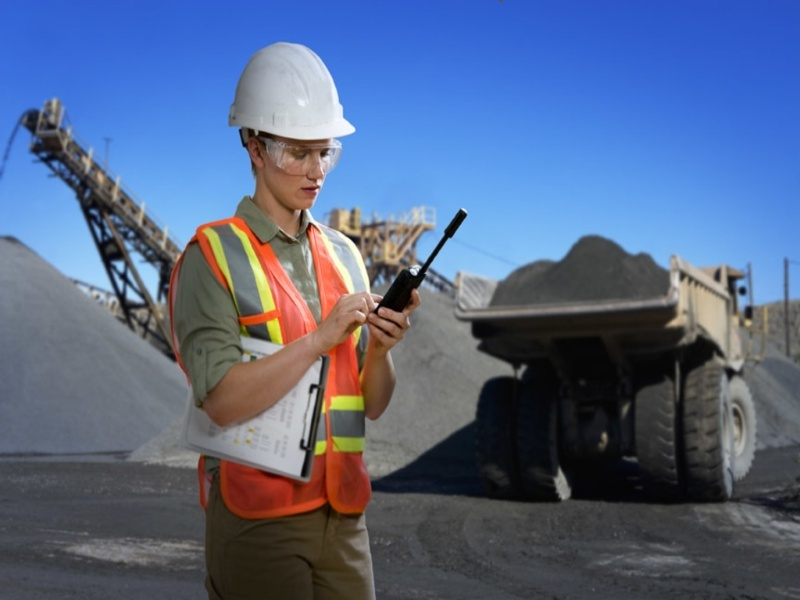Baret: (228, 40, 359, 144)
Gozluk: (263, 143, 348, 178)
